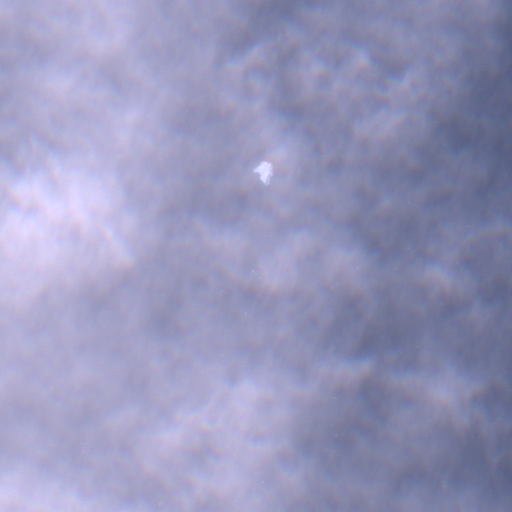Iceberg: (254, 162, 271, 184)
